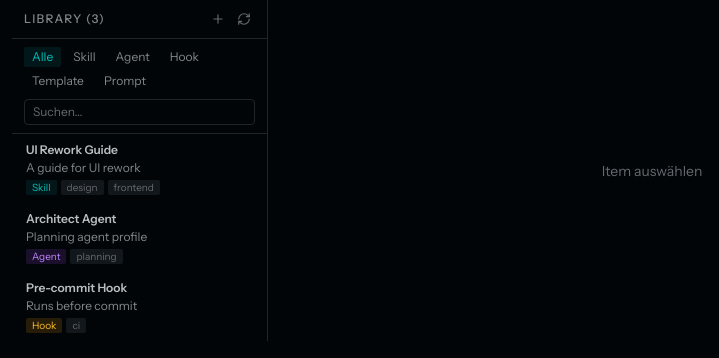
Test: LibraryViewer › filters items by type
The image size is (719, 358).
Step 1. Click the button "Skill" → (84, 57), box [65,47,104,67]
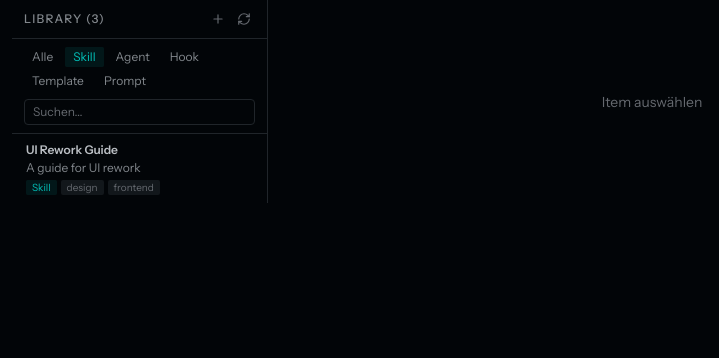
Expected: the text "UI Rework Guide" is shown, [26,142,118,158]
Expected: the button "Architect Agent" is gone
Expected: the button "Pre-commit Hook" is gone
